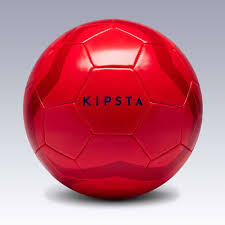top: (17, 18, 206, 204)
